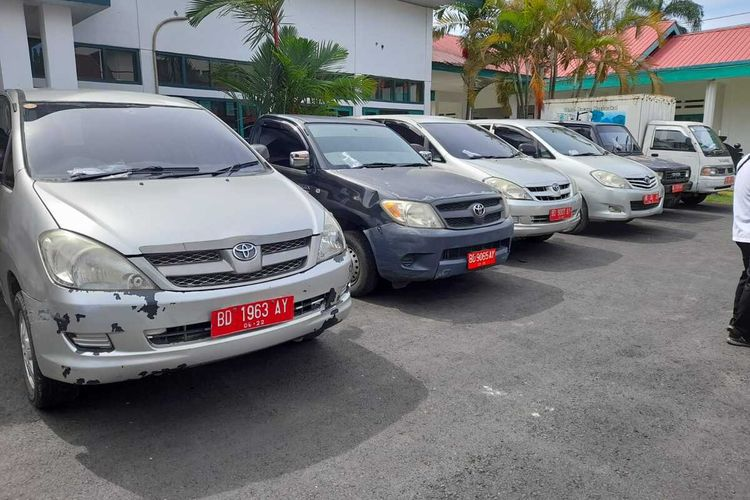plat nomor: (209, 293, 296, 338), (465, 249, 498, 271)
